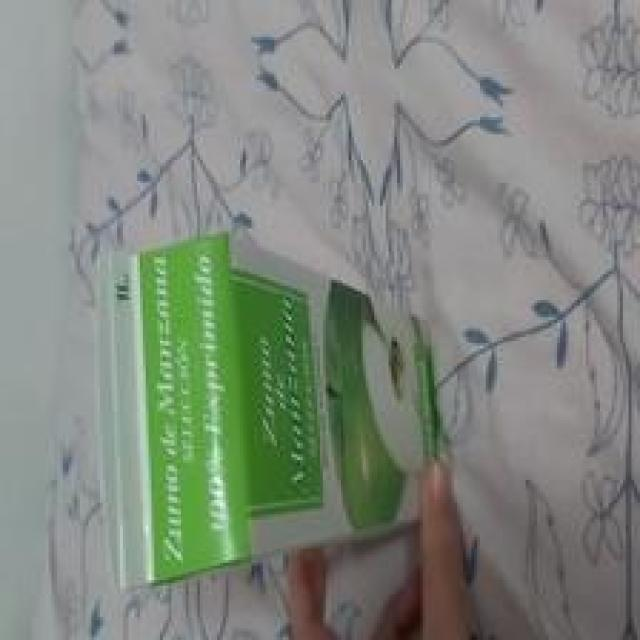PaperCardboard: (105, 225, 438, 562)
